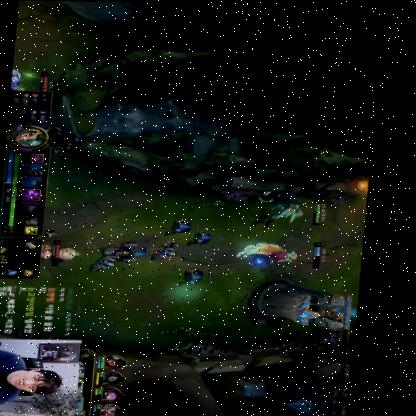streamer: (0, 346, 71, 409)
